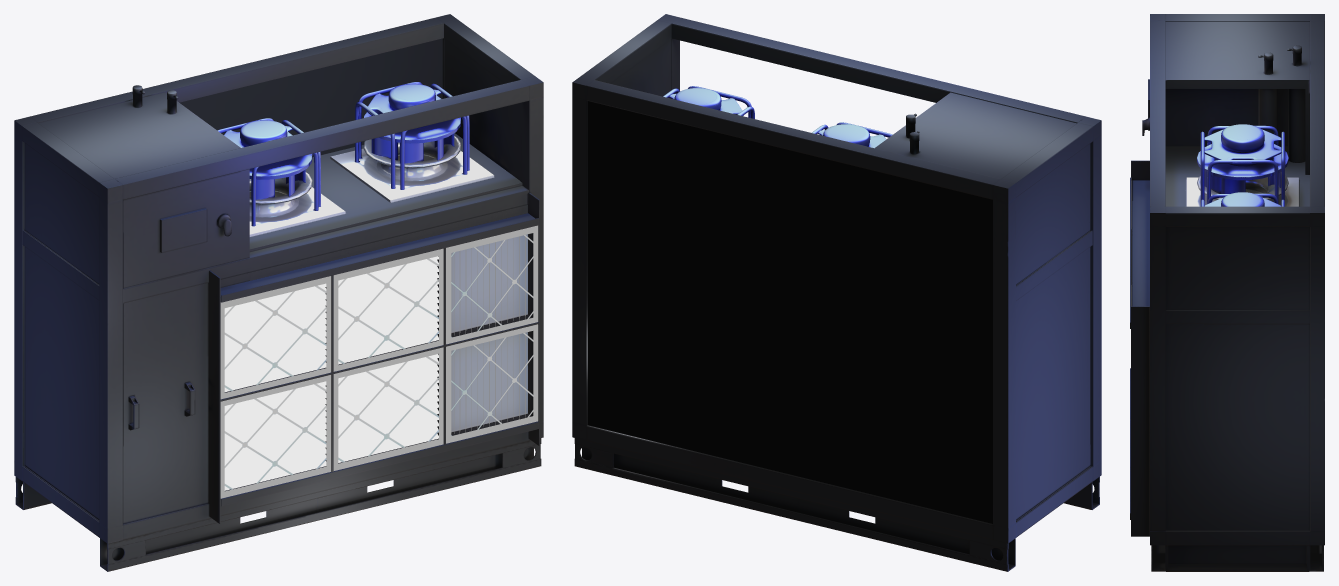
Rendered from mreduce2.glb.
3 views of the same model, side by side, from view 1: azimuth 30°, elevation 25°; view 2: azimuth 150°, elevation 25°; view 3: azimuth 270°, elevation 25° (orthographic). The views are drawn at different scales.
Parts seen in each view (by area): view 1: D_Unit; view 2: D_Unit; view 3: D_Unit.
Part boxes in pixels (x1,y1,x2,y2): D_Unit: (14, 14, 543, 571); D_Unit: (572, 14, 1101, 571); D_Unit: (1130, 14, 1324, 571).
Bounding box in the file's own units: 9.21 × 8.15 × 3.81.
Materials: 5 (4 with a texture image).
